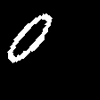chain: (8, 14, 51, 62)
